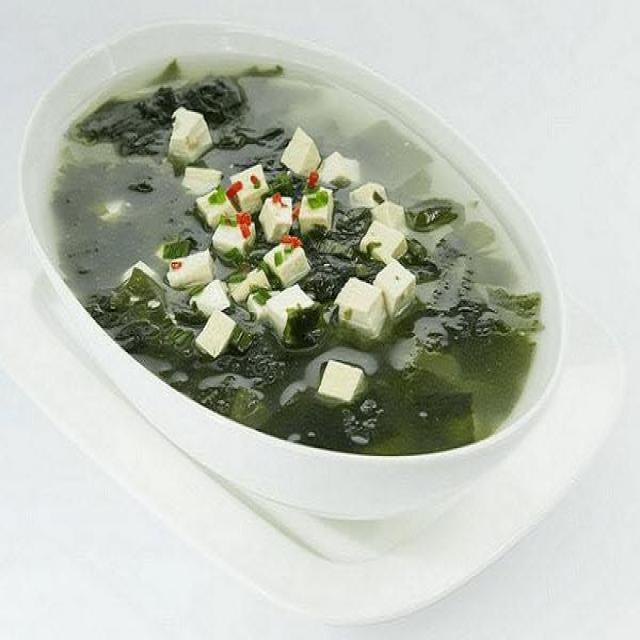canh rong bien: (50, 66, 544, 454)
